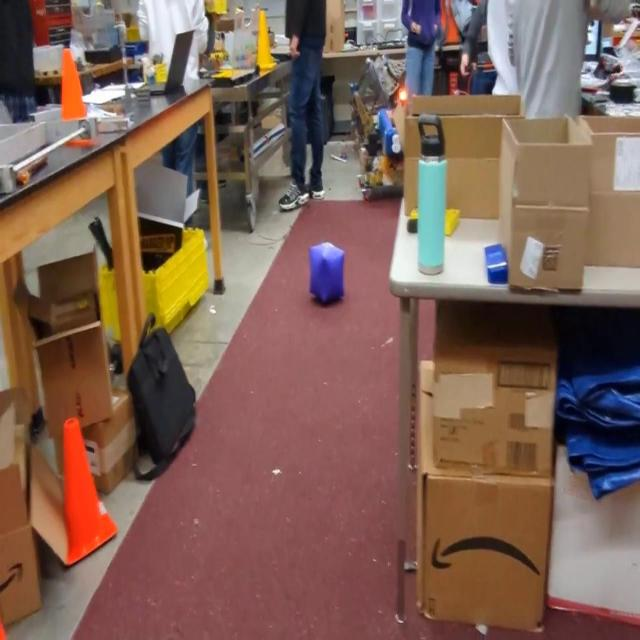frc_cone: (253, 11, 277, 71)
frc_cube: (308, 242, 344, 306)
